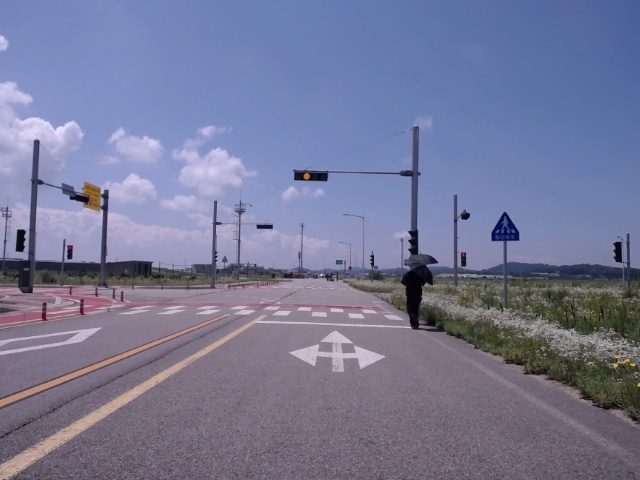orange_4: (293, 170, 328, 182)
